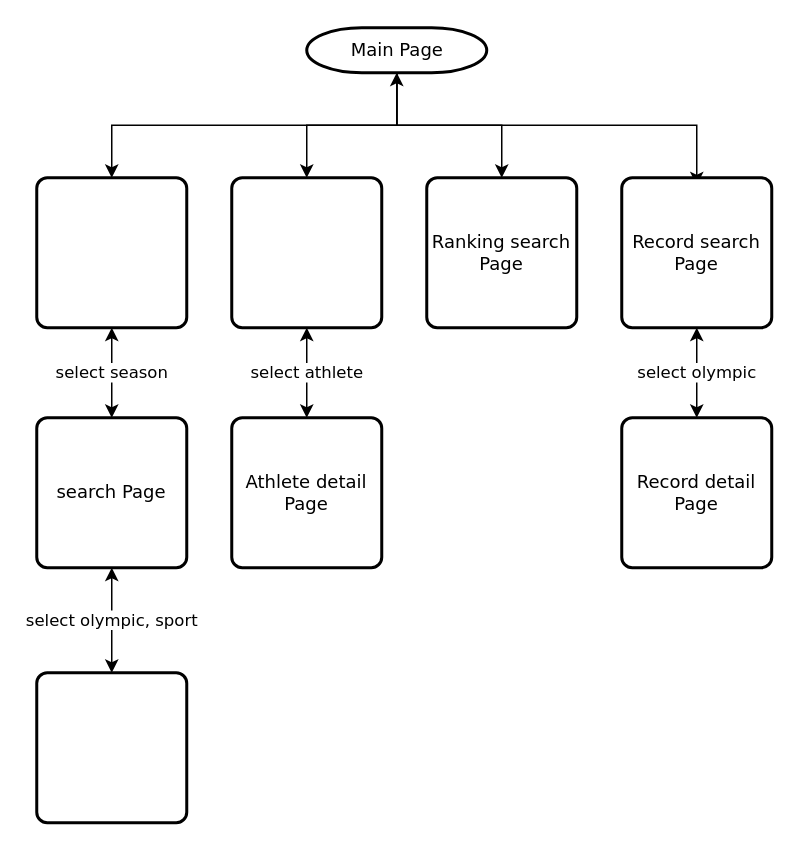
Some shapes in this 800 by 849 pixel diagram are drawn without their labels. Here are the shapes that lost their labels. From the top down, the box of each, then its label:
(34, 176, 188, 328): Index Page
(230, 176, 382, 328): Athlete search Page
(34, 670, 188, 824): result Page
